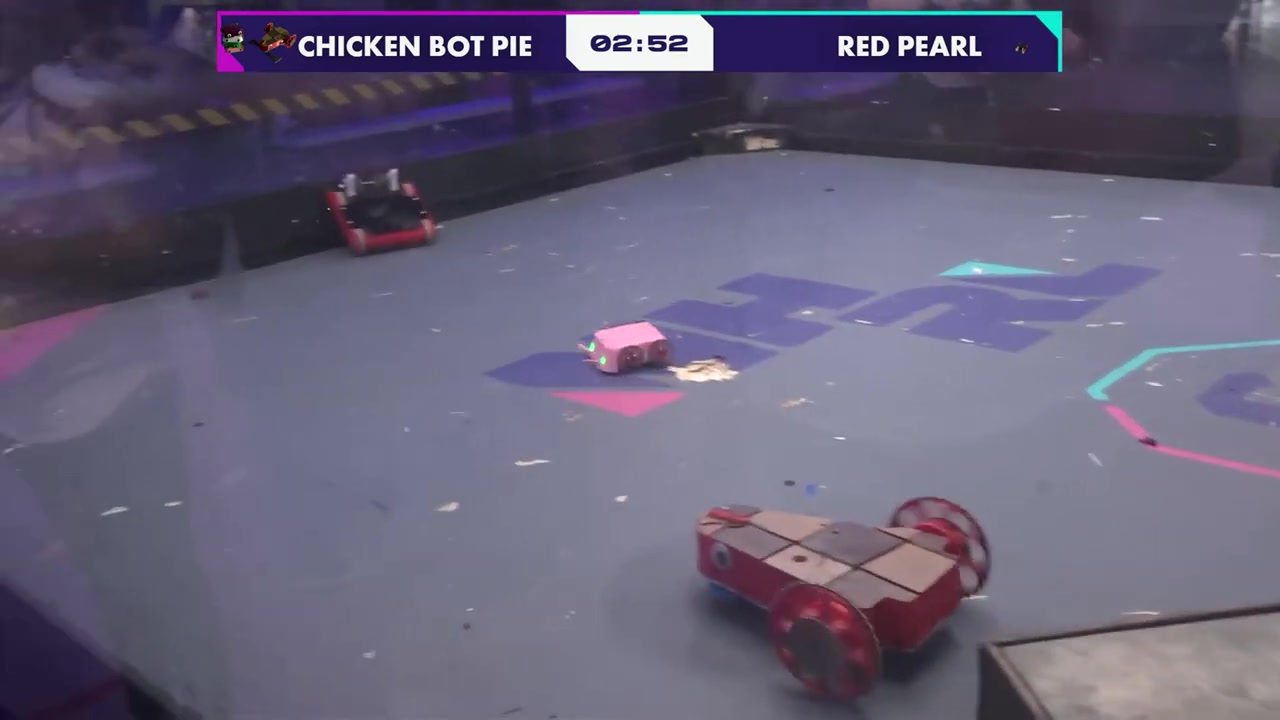combatbot: (690, 492, 994, 703), (323, 169, 443, 257)
housebot: (975, 607, 1276, 720)
minibot: (577, 320, 676, 378)
